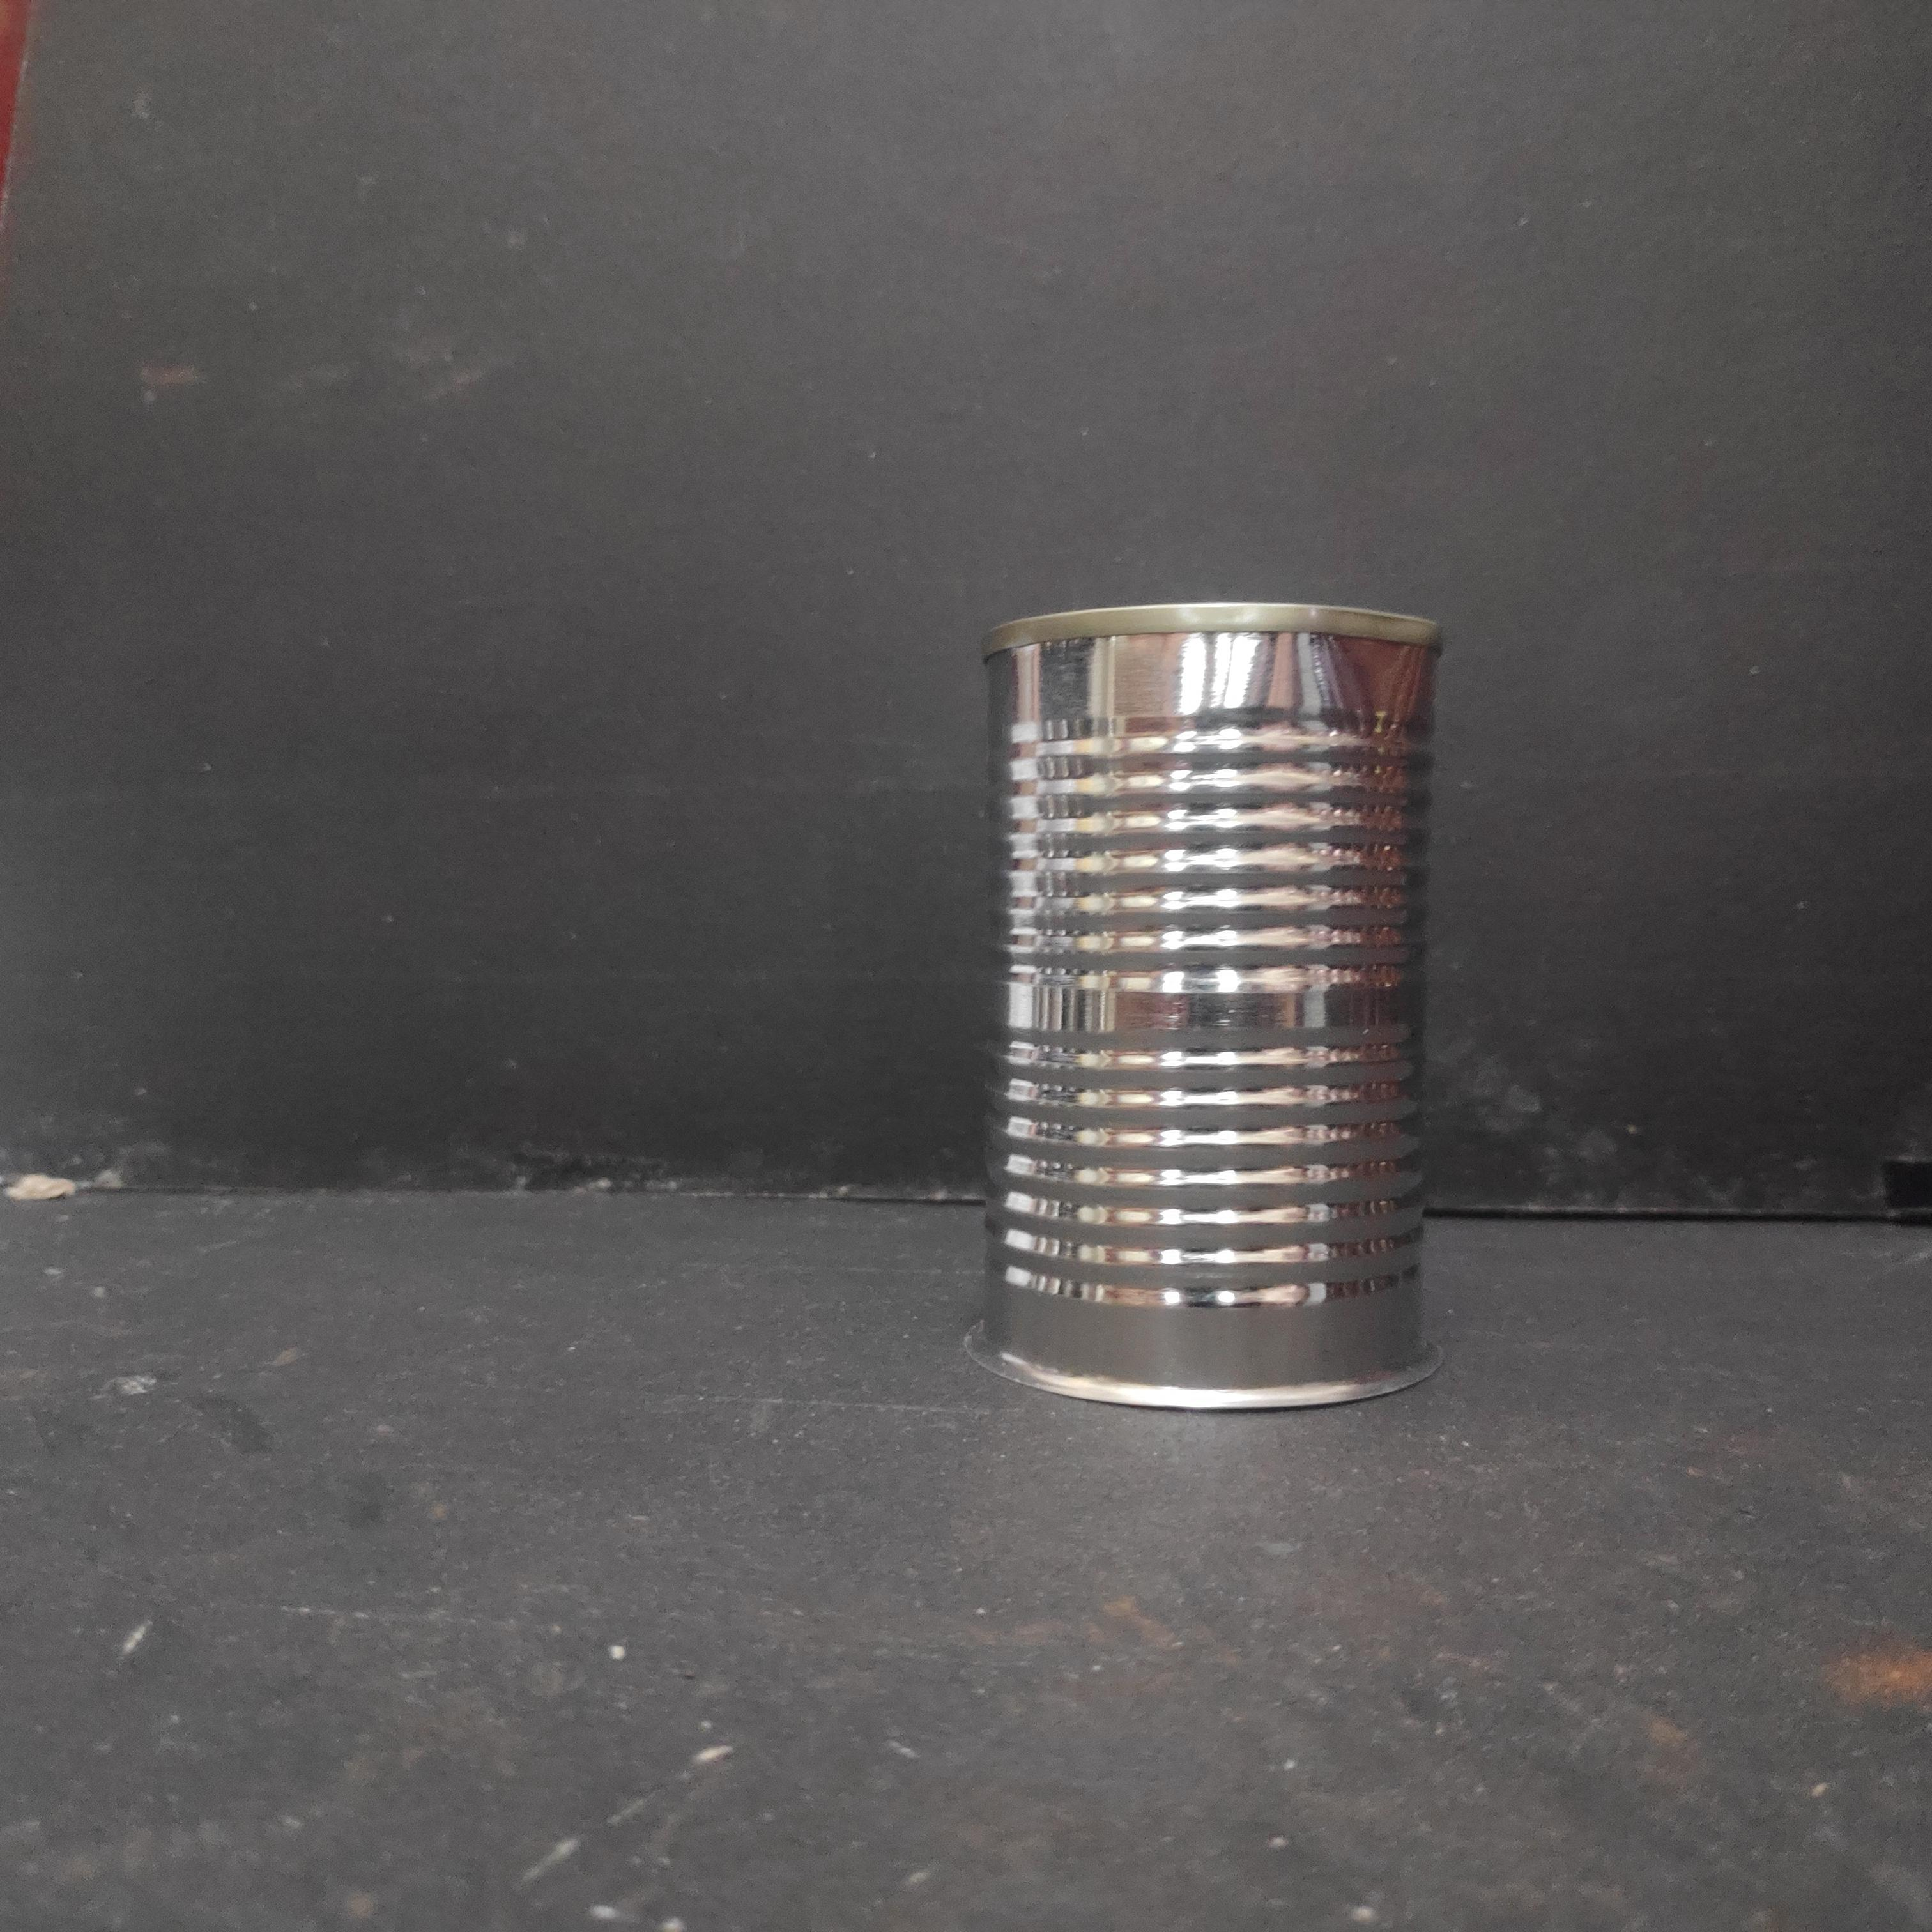Minor Defect: (969, 598, 1460, 1445)
